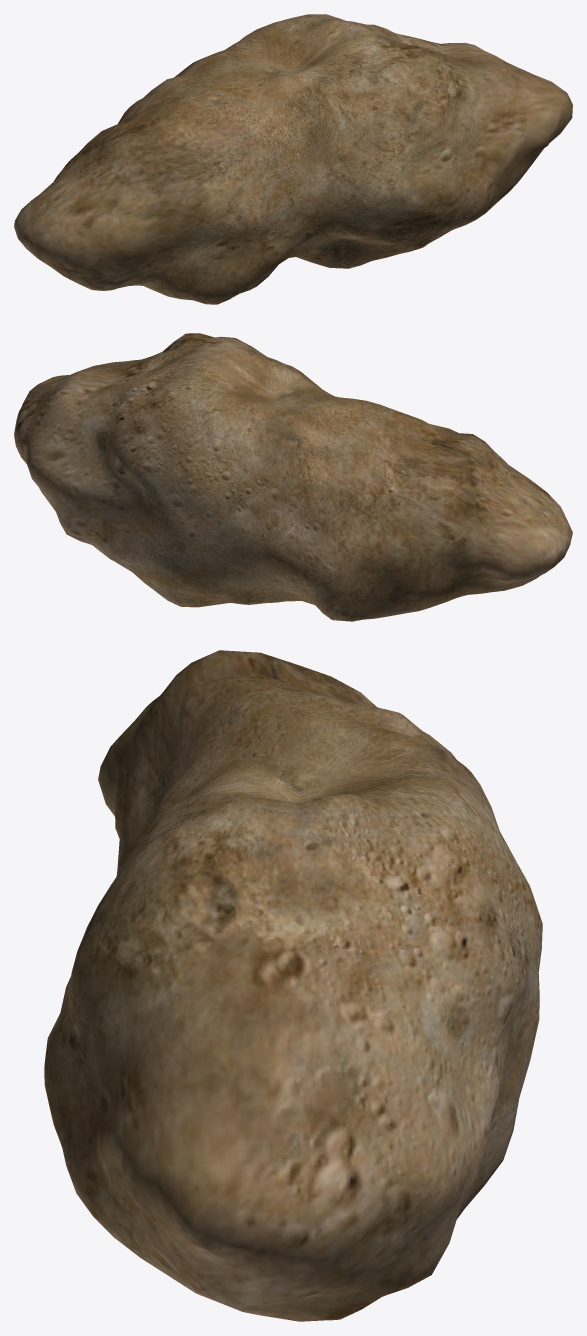
Rendered from geographos.glb.
3 renders of one model, top to bottom at view 1: azimuth 30°, elevation 25°; view 2: azimuth 150°, elevation 25°; view 3: azimuth 270°, elevation 25°, orthographic. The views are drawn at different scales.
Visible parts, largest first — view 1: geographos; view 2: geographos; view 3: geographos.
Boxes of the visible parts, x1,y1,x2,y2 form: geographos: (14,14,572,304); geographos: (14,333,572,621); geographos: (44,650,542,1321).
Size of the model in its own units: 4.79 by 2.02 by 1.92.
Materials: 1 (1 with a texture image).
